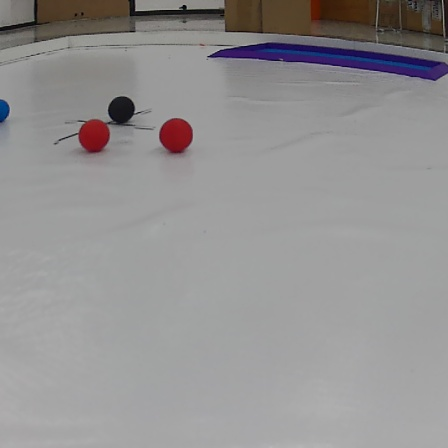black: (106, 96, 140, 122)
blue_aim: (206, 36, 445, 83)
red: (158, 113, 197, 158), (74, 117, 110, 151)
